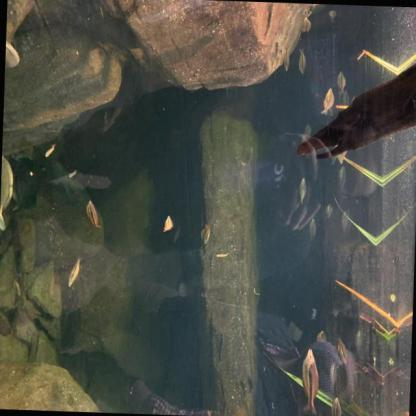fish: (300, 347, 321, 415), (0, 149, 14, 232), (85, 198, 102, 230), (320, 86, 335, 119), (66, 256, 81, 288), (297, 177, 307, 207), (200, 222, 211, 248), (335, 70, 347, 92), (280, 46, 290, 72), (162, 212, 173, 235), (329, 397, 343, 415), (297, 48, 306, 76), (300, 14, 312, 35), (337, 164, 346, 192), (308, 216, 318, 241), (340, 209, 350, 233), (42, 143, 56, 159), (325, 201, 333, 221), (335, 150, 348, 161)
